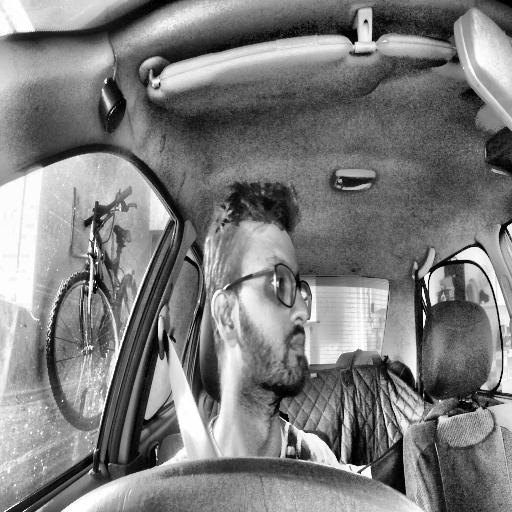awake: (202, 180, 313, 407)
